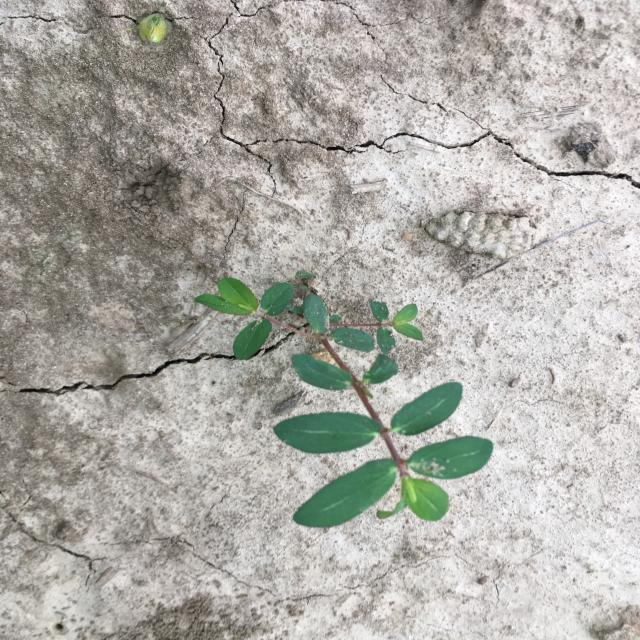SpottedSpurge: (192, 270, 493, 528)
